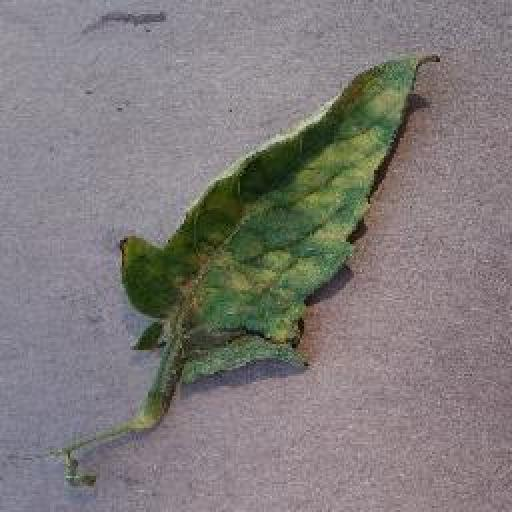Leaf Mold: (122, 52, 441, 383)
